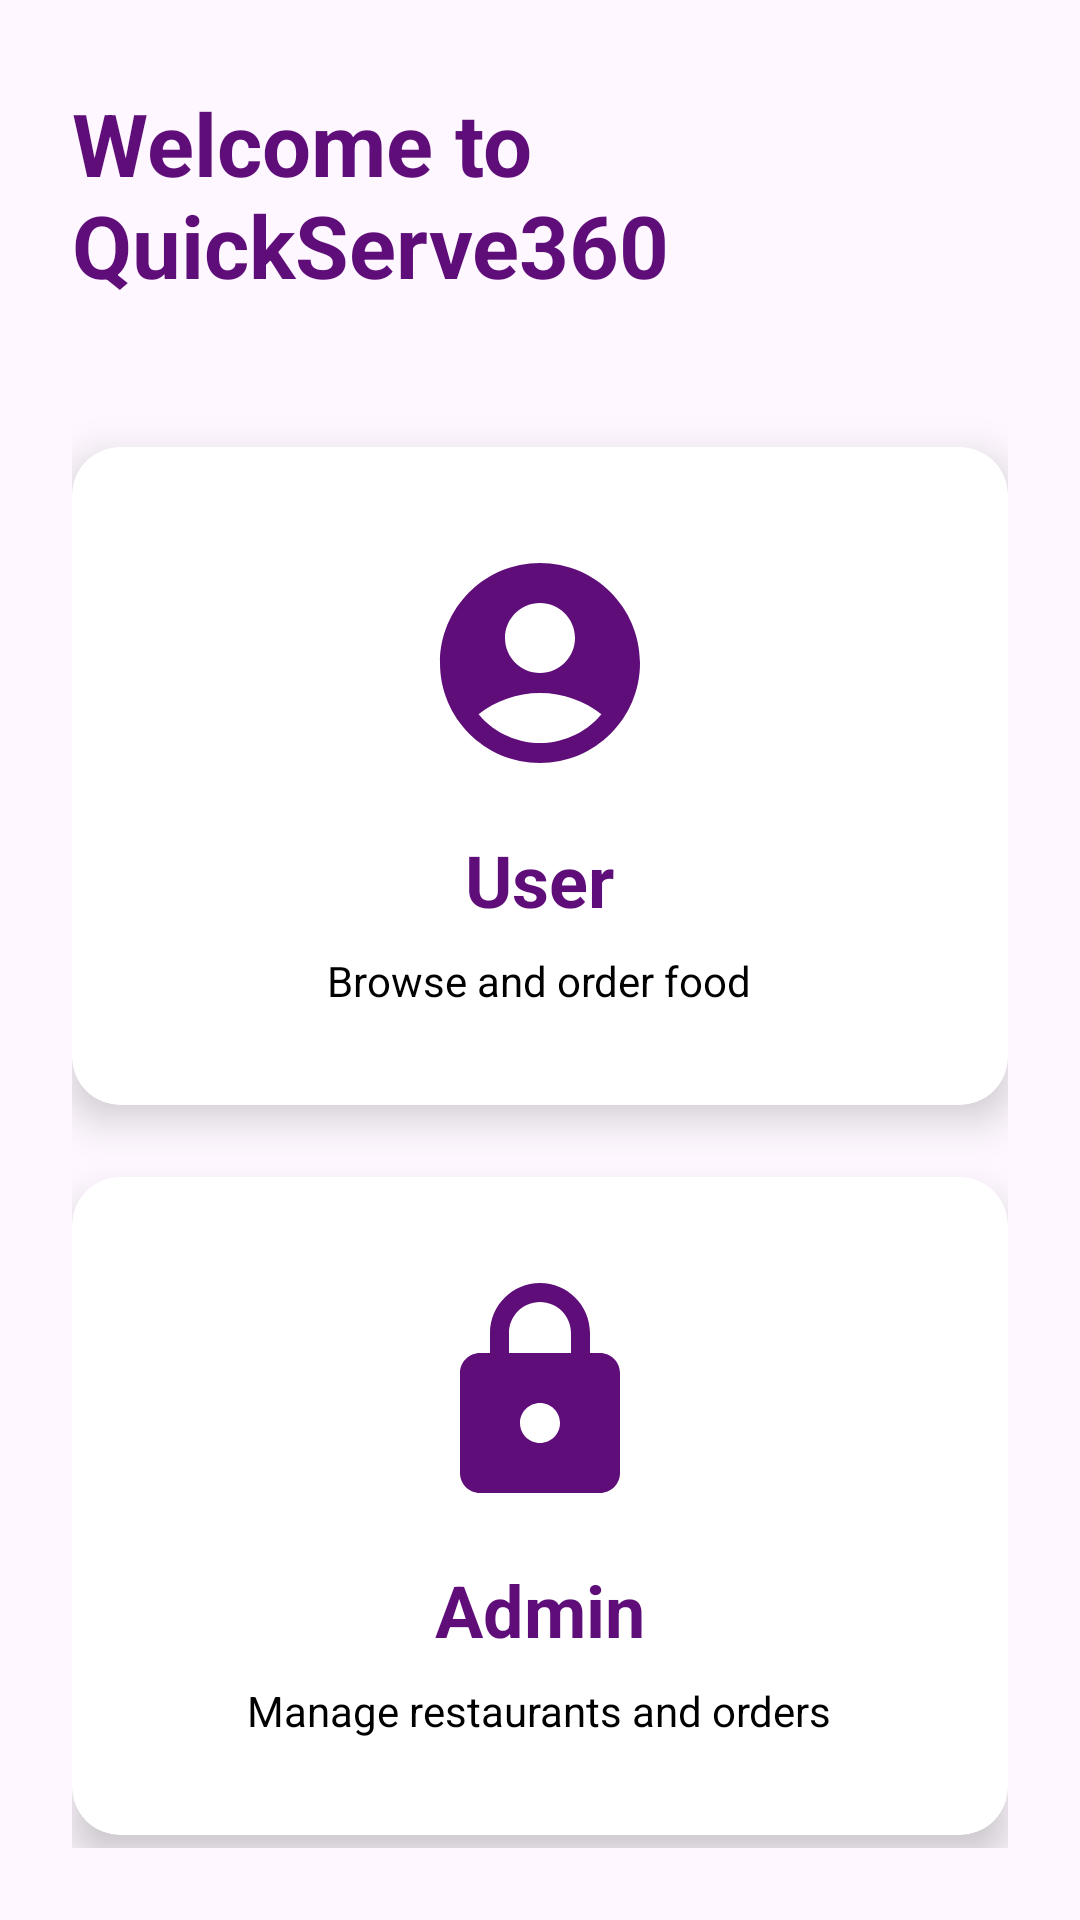

Locate icon controls on the screen. Image size 1080px×1920px, boxes as (x1, y1, x2, y2).
account circle: (439, 563, 640, 763)
lock: (460, 1283, 620, 1493)
